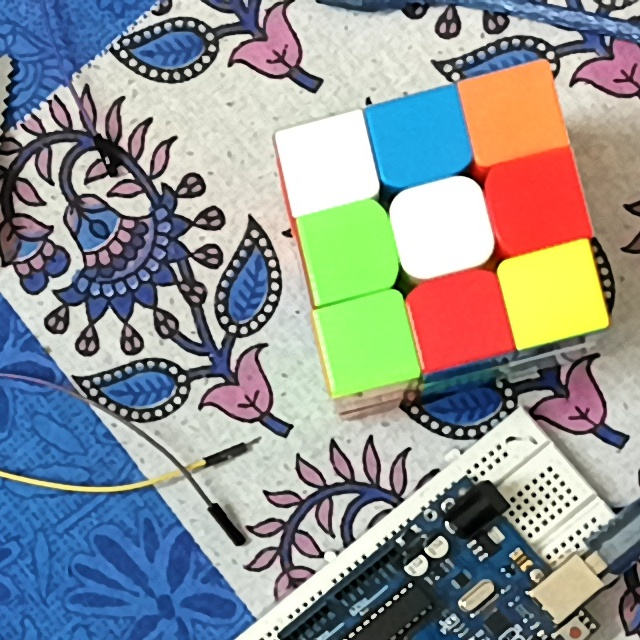tile: (420, 286, 498, 354), (473, 80, 553, 143), (508, 167, 576, 240), (387, 104, 458, 172), (321, 212, 385, 285), (340, 306, 406, 376), (517, 263, 590, 326), (293, 131, 362, 195), (410, 198, 477, 263)
